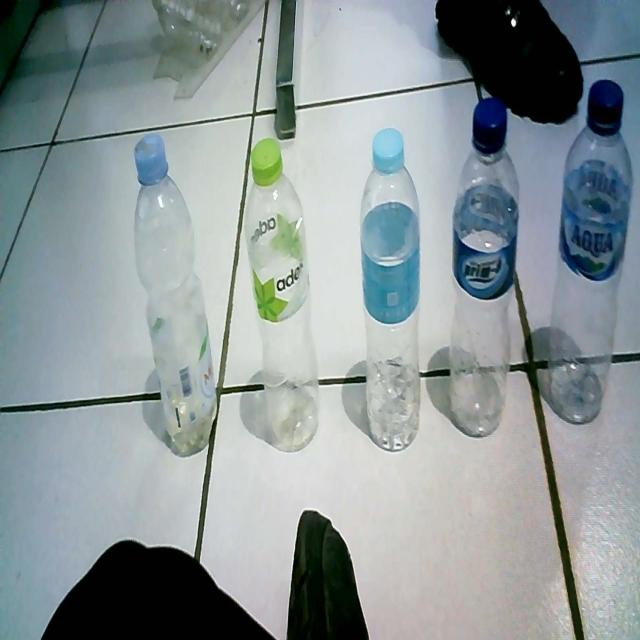botol: (127, 124, 221, 469), (549, 78, 634, 425), (244, 129, 324, 456), (453, 98, 522, 442), (360, 130, 425, 455)
